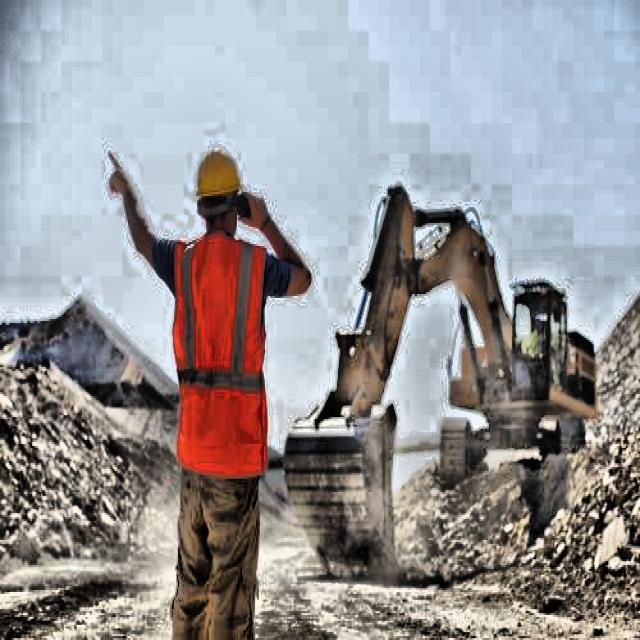helmet: (188, 135, 247, 244)
